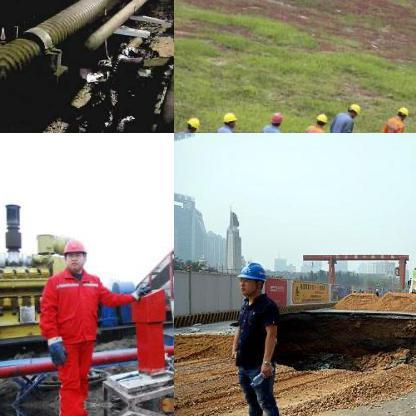Helmet: (235, 255, 269, 299), (59, 232, 89, 272), (221, 109, 238, 127), (394, 102, 410, 119), (265, 109, 283, 123), (184, 114, 198, 130), (346, 101, 360, 116), (313, 111, 327, 125)
